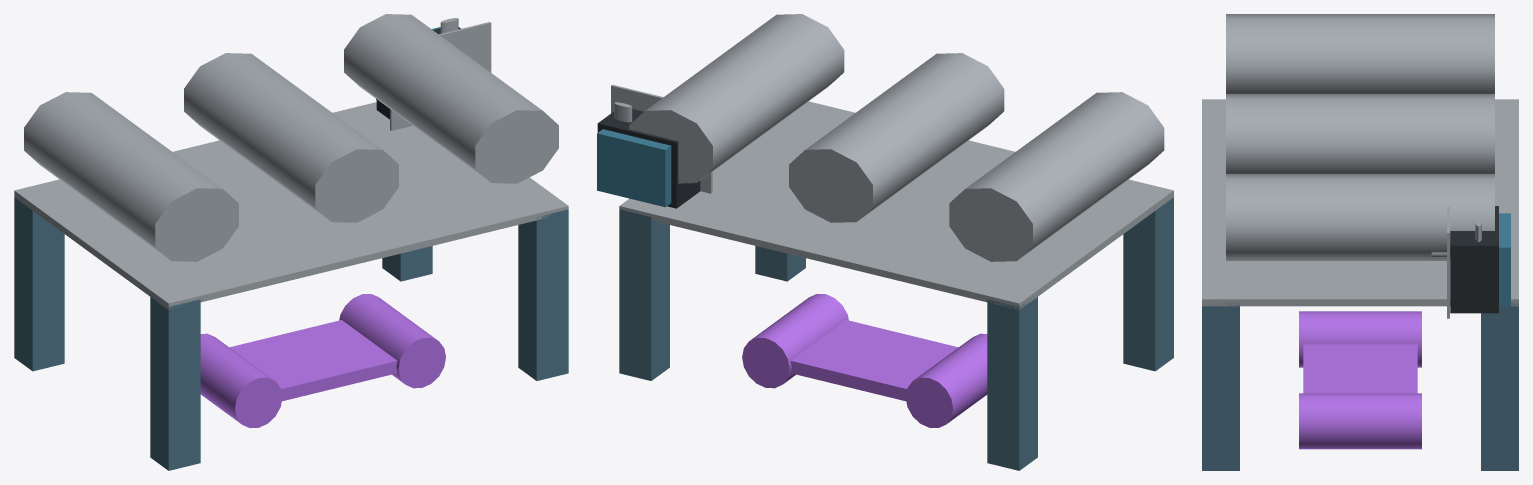
3 views of the same model, side by side, from view 1: azimuth 30°, elevation 25°; view 2: azimuth 150°, elevation 25°; view 3: azimuth 270°, elevation 25° (orthographic). The views are drawn at different scales.
Parts seen in each view (by area): view 1: g4, g0003, g0002, g0004, visualRoller (×2), g1, g3001, g0, visualBelt, g1001, g2; view 2: g4, g0003, g0004, g0002, visualRoller (×2), g0, g2, g1, visualBelt, g3, g0001, g3001 (+1 smaller); view 3: g0002, g0003, g0004, g4, visualRoller (×2), g3001, g2, visualBelt, g0001, g3, g1001.
Boxes of the visible parts, left/top/right/bottom form: g4: left=14, top=102, right=568, bottom=309; g0003: left=24, top=92, right=238, bottom=261; g0002: left=344, top=14, right=558, bottom=183; g0004: left=184, top=53, right=398, bottom=222; visualRoller (×2): left=200, top=294, right=445, bottom=427; g1: left=150, top=294, right=200, bottom=470; g3001: left=518, top=209, right=568, bottom=380; g0: left=14, top=197, right=64, bottom=371; visualBelt: left=229, top=320, right=397, bottom=401; g1001: left=390, top=22, right=491, bottom=130; g2: left=382, top=246, right=432, bottom=281; g4: left=619, top=101, right=1173, bottom=309; g0003: left=949, top=92, right=1164, bottom=261; g0004: left=789, top=53, right=1004, bottom=222; g0002: left=629, top=14, right=844, bottom=183; visualRoller (×2): left=742, top=294, right=987, bottom=427; g0: left=987, top=296, right=1037, bottom=470; g2: left=619, top=209, right=669, bottom=380; g1: left=1123, top=197, right=1173, bottom=371; visualBelt: left=790, top=320, right=958, bottom=401; g3: left=597, top=129, right=671, bottom=207; g0001: left=597, top=109, right=700, bottom=208; g3001: left=755, top=246, right=805, bottom=281; g0002: left=1226, top=174, right=1494, bottom=260; g0003: left=1226, top=14, right=1494, bottom=93; g0004: left=1226, top=94, right=1494, bottom=173; g4: left=1202, top=99, right=1518, bottom=306; visualRoller (×2): left=1299, top=311, right=1421, bottom=449; g3001: left=1202, top=302, right=1239, bottom=470; g2: left=1481, top=302, right=1518, bottom=470; visualBelt: left=1303, top=344, right=1417, bottom=393; g0001: left=1450, top=206, right=1498, bottom=313; g3: left=1499, top=213, right=1510, bottom=306; g1001: left=1447, top=206, right=1449, bottom=318.
Bounding box in the file's own units: 2.99 × 1.86 × 1.8.
